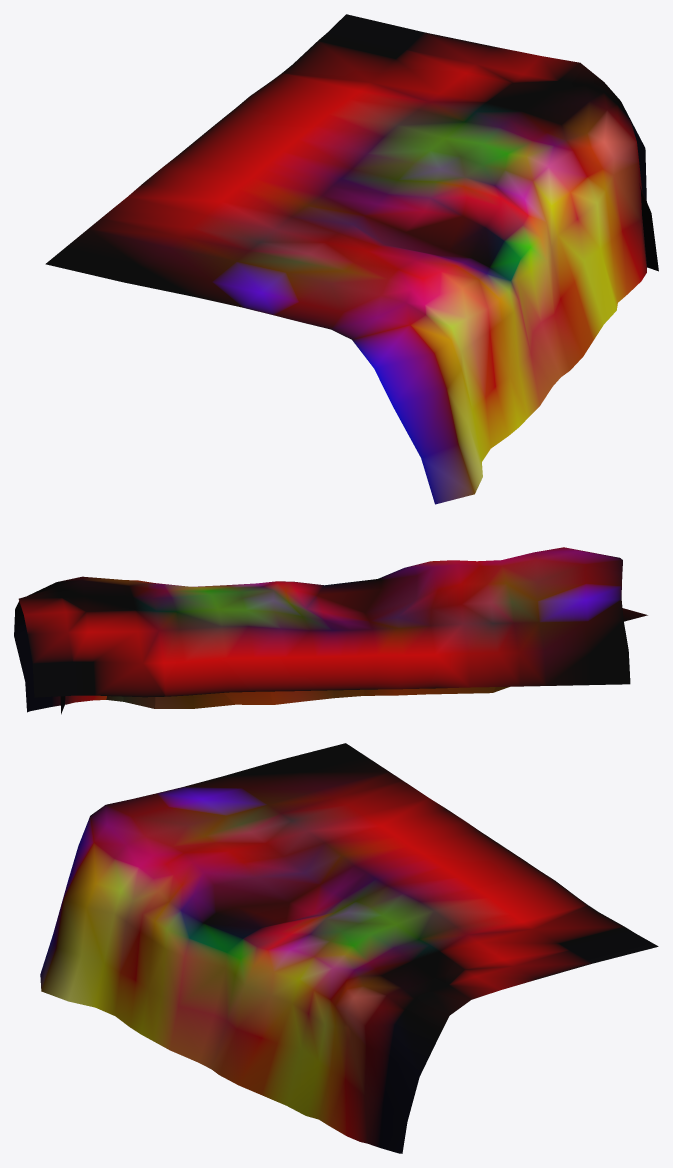
File: Homeworld_Exterior_Common_Thing_Fishpond_C_01_Vo.fbx
The picture shows the model from 3 angles, top to bottom: view 1: azimuth 30°, elevation 25°; view 2: azimuth 150°, elevation 25°; view 3: azimuth 270°, elevation 25°; orthographic projection. The views are drawn at different scales.
Visible parts, largest first — view 1: Homeworld_Exterior_Common_Thing_Fishpond_C_01_Vo; view 2: Homeworld_Exterior_Common_Thing_Fishpond_C_01_Vo; view 3: Homeworld_Exterior_Common_Thing_Fishpond_C_01_Vo.
Boxes of the visible parts, left/top/right/bottom form: Homeworld_Exterior_Common_Thing_Fishpond_C_01_Vo: left=45, top=14, right=658, bottom=504; Homeworld_Exterior_Common_Thing_Fishpond_C_01_Vo: left=14, top=547, right=647, bottom=714; Homeworld_Exterior_Common_Thing_Fishpond_C_01_Vo: left=40, top=743, right=658, bottom=1153.
Bounding box in the file's own units: 8.76 × 2.06 × 8.38.
